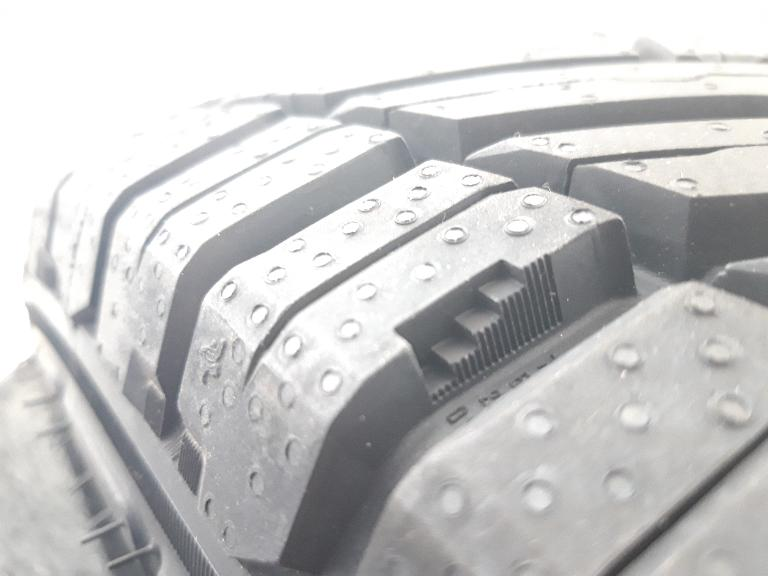temoin:100: (392, 252, 567, 408)
